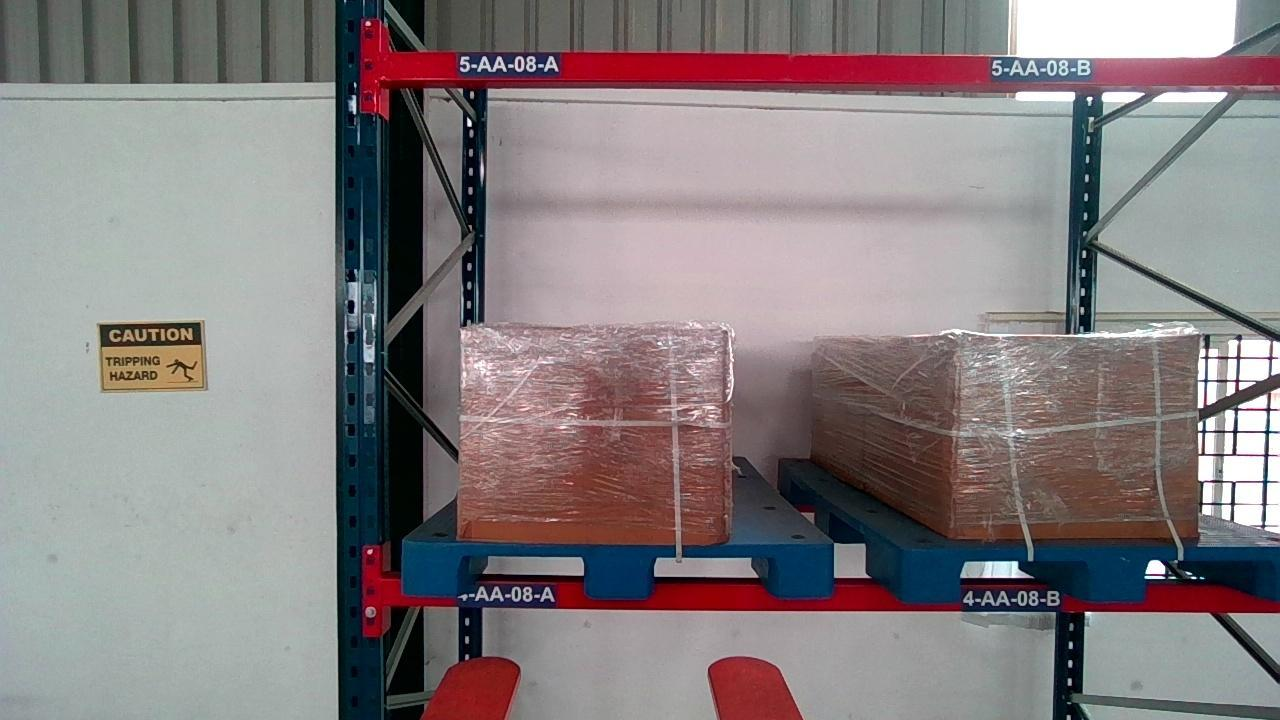h_rack: (380, 578, 1275, 610), (381, 53, 1280, 82)
small_pallet: (400, 541, 830, 596), (911, 547, 1279, 603)
